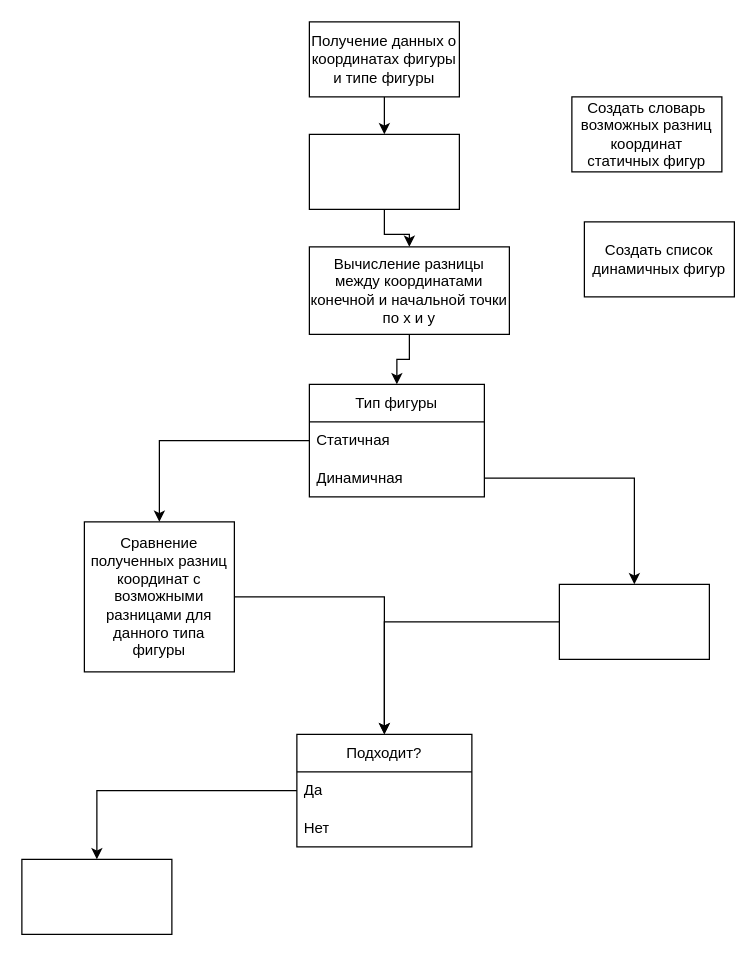
The diagram is 756 pixels wide and 956 high, and some of its shapes have lost their labels. The shapes that lost their labels are listed below. From the top down, each one's centre as x and y in pixels, then its label:
the point at 383,171: Перевод координат в числовой вид
the point at 633,621: Проверка на выполнение условий разниц координат фигур
the point at 96,896: Вывести True
